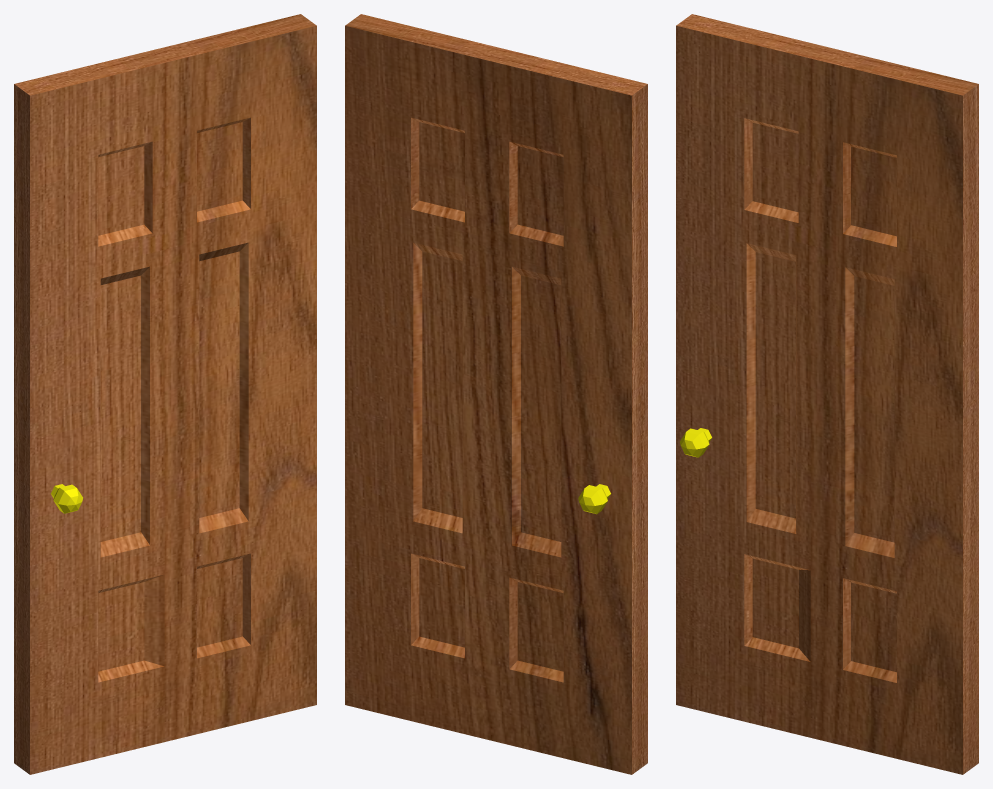
Rendered from Prop_PuertaMadera_habitacion.fbx.
3 renders of one model, left to right at view 1: azimuth 30°, elevation 25°; view 2: azimuth 150°, elevation 25°; view 3: azimuth 330°, elevation 25°, orthographic.
Visible parts, largest first — view 1: Puerta_habitacion_niña1; view 2: Puerta_habitacion_niña1; view 3: Puerta_habitacion_niña1.
Boxes of the visible parts, box(x1,y1,x2,y2) form: Puerta_habitacion_niña1: box(14, 14, 316, 774); Puerta_habitacion_niña1: box(345, 14, 647, 774); Puerta_habitacion_niña1: box(676, 14, 978, 774).
Bounding box in the file's own units: 1.01 × 2.28 × 0.3141.
Materials: 2 (1 with a texture image).
